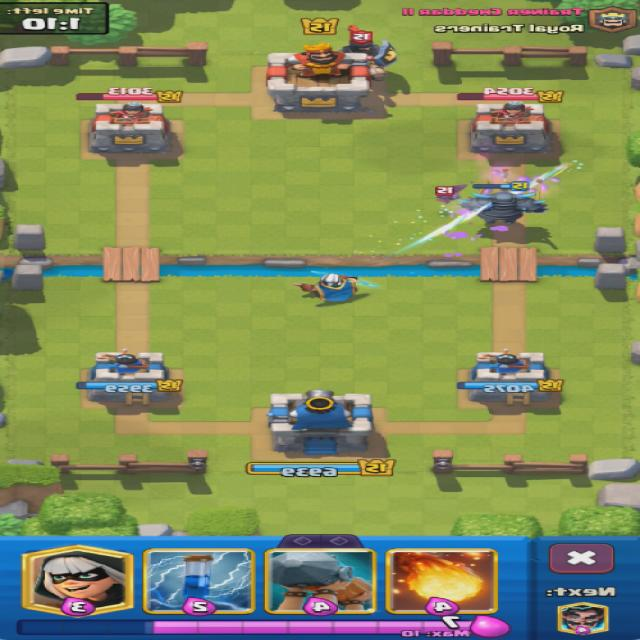Enemy-Bat: (436, 184, 467, 203)
Enemy-DarkPrince-Shield: (342, 25, 396, 80)
Enemy-KingTower: (268, 45, 371, 114)
Enemy-PrincessTower: (471, 100, 553, 154), (91, 102, 170, 152)
